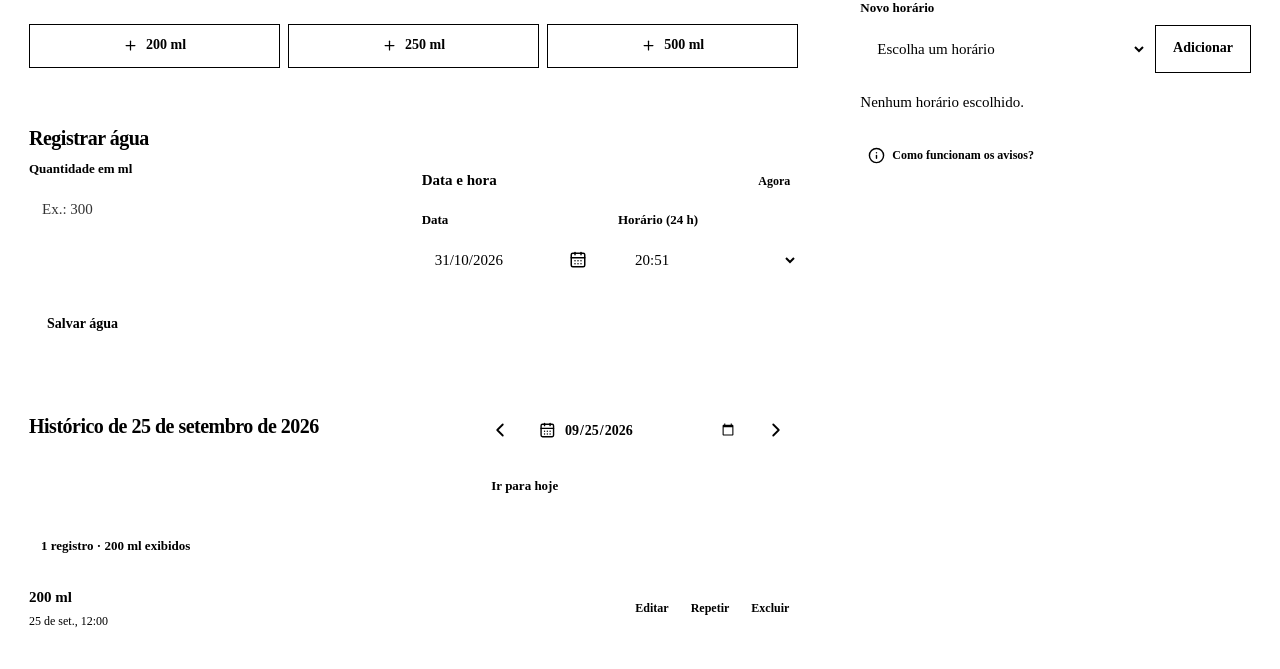
Test case: edição de uma entrada de água › abre o registro, permite cancelar e mantém o foco na ação
(page scrolled)
What coordinates should you click on to do the following:
click the button with aria-label "Editar água de 200 ml"
I would click on:
 (652, 608)
Its box is left=626, top=586, right=678, bottom=630.
(page scrolled)
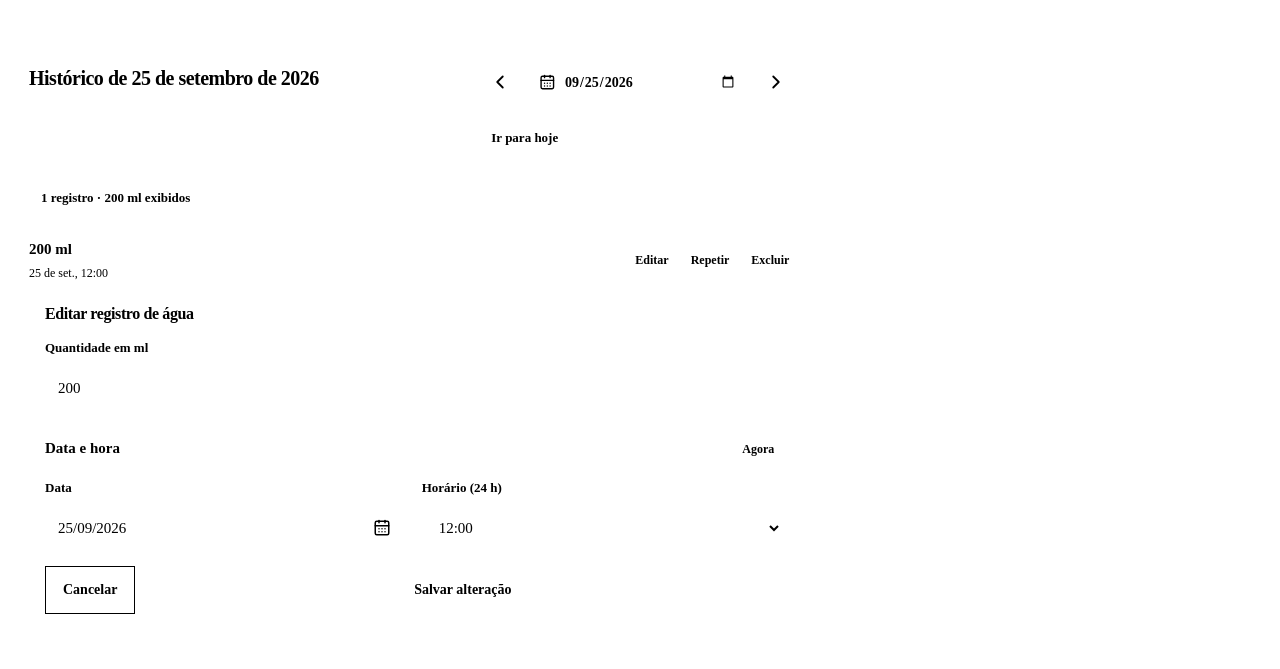
Result: the field labelled "Quantidade em ml" holds "200" at left=45, top=365, right=808, bottom=413
What coordinates should you click on to do the following:
click the button "Cancelar"
I would click on:
 (90, 590)
Its box is left=45, top=566, right=135, bottom=614.
(page scrolled)
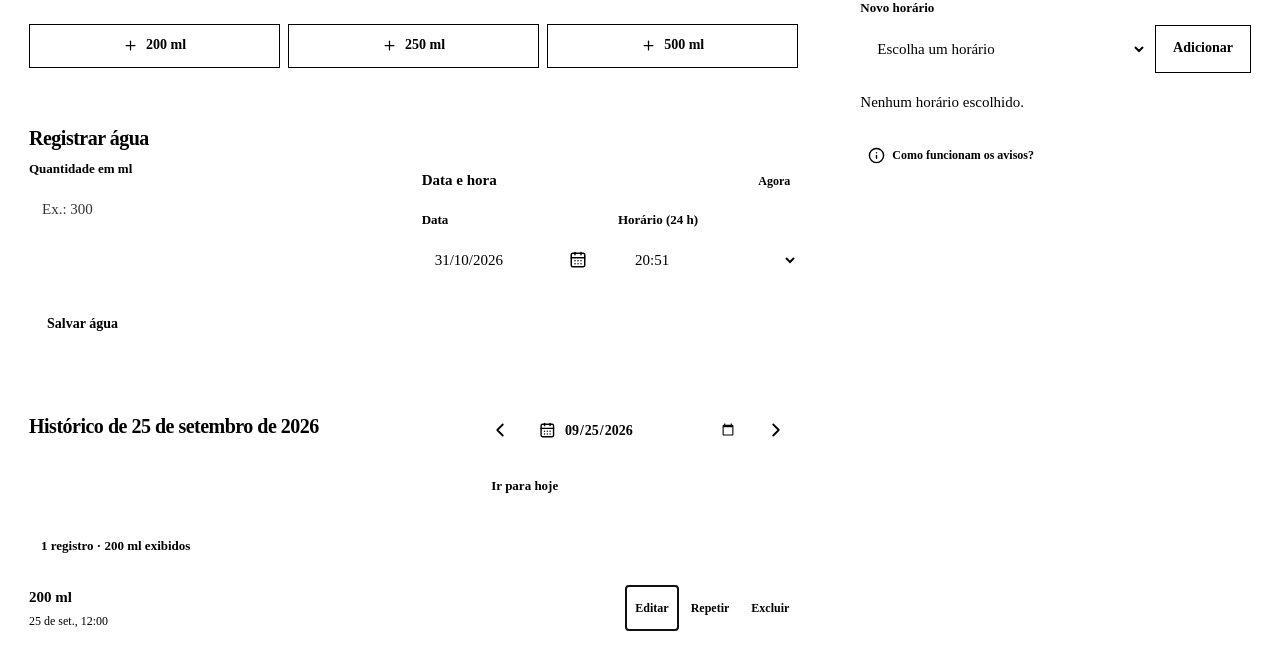
Result: the heading "Editar registro de água" is gone
